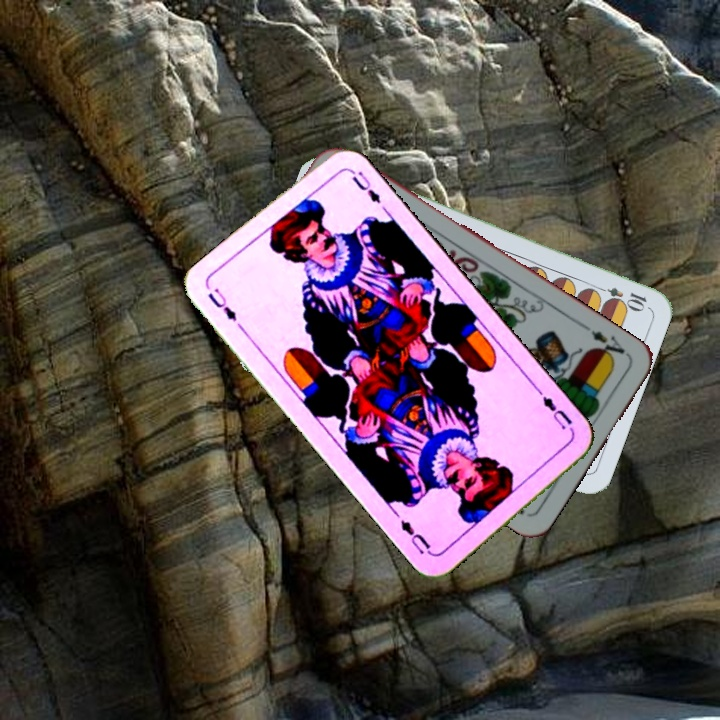E10: (591, 282, 649, 312)
EA: (579, 321, 628, 364)
EU: (538, 391, 577, 436), (203, 284, 240, 325)
